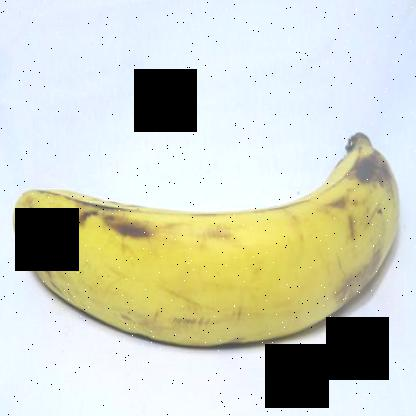ripe: (8, 108, 411, 358)
